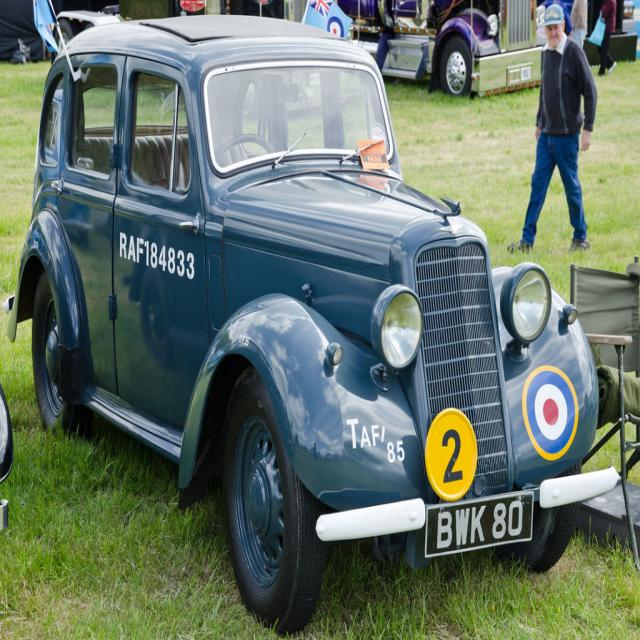car: (5, 14, 620, 630)
